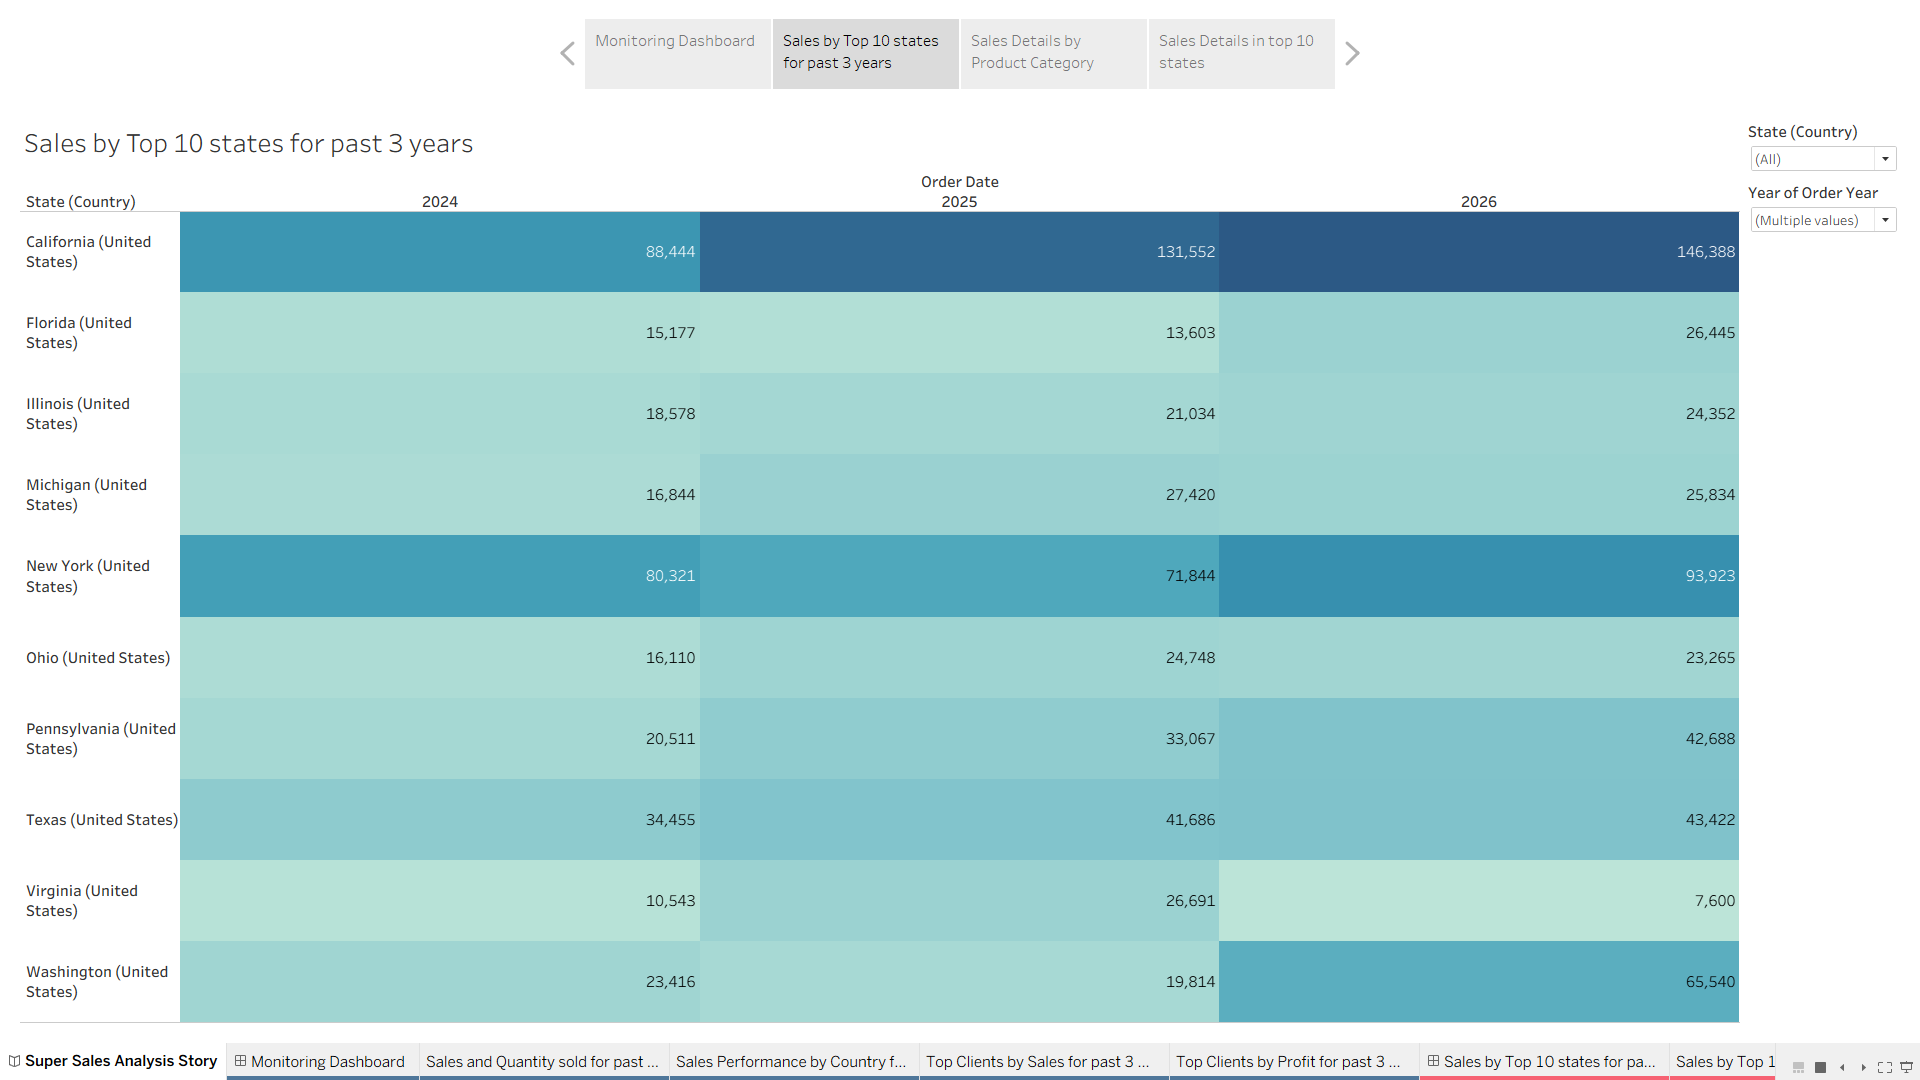

The dashboard page shown, as its layout file describes it:
{"tool":"tableau","page":{"name":"Sales by Top 10 states for past 3 years D","canvas":[1000,1000],"units":"permille","ordinal":3},"visuals":[{"type":"worksheet","title":"Sales by Top 10 states for past 3 years","mark":"Square","rows":["Calculation_2013771162484739"],"cols":["Order Date"],"box":[4.8,9.4,893.8,981.2]},{"type":"filter","title":"Sales by Top 10 states for past 3 years","param":"[federated.16buhzm0bt8dtm1b2378x1yd18d9].[none:Calculation_2013771162484739:nk]","box":[898.6,9.4,96.6,71.7]},{"type":"filter","title":"Sales by Top 10 states for past 3 years","param":"[federated.16buhzm0bt8dtm1b2378x1yd18d9].[yr:Order Date (copy)_2013771160584193:","box":[898.6,81.1,96.6,71.7]}]}

Visuals, with their boxes on the dashboard's canvas, which has no fixed pixel size, in thousandths of its width and height (x1, y1, x2, y2). These are canvas units, not pixel positions in the 1920x1080 screenshot, which may show the page scaled, cropped or inside an application window:
"Sales by Top 10 states for past 3 years" worksheet (Square marks): <region>5, 9, 899, 991</region>
"Sales by Top 10 states for past 3 years" filter: <region>899, 9, 995, 81</region>
"Sales by Top 10 states for past 3 years" filter: <region>899, 81, 995, 153</region>
